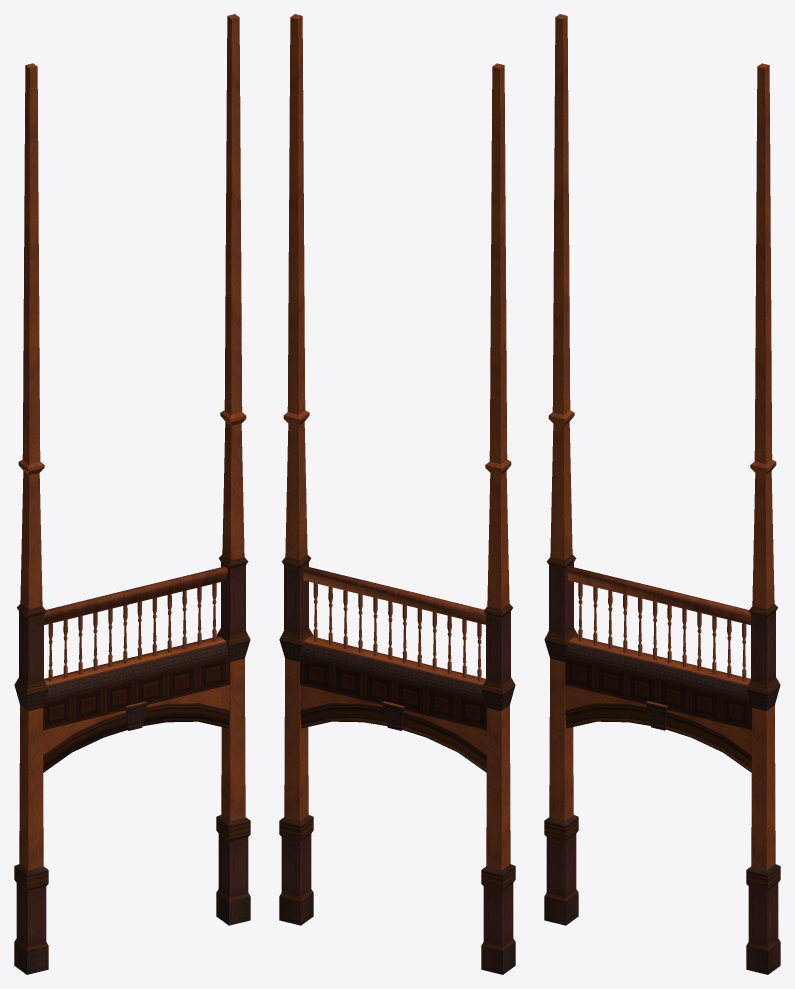
Rendered from Balconey_2_Poles.fbx.
3 views of the same model, side by side, from view 1: azimuth 30°, elevation 25°; view 2: azimuth 150°, elevation 25°; view 3: azimuth 330°, elevation 25° (orthographic).
Visible parts, largest first — view 1: Balcony_2_Poles_LOD0; view 2: Balcony_2_Poles_LOD0; view 3: Balcony_2_Poles_LOD0.
Part boxes in pixels (bbox=[...]): Balcony_2_Poles_LOD0: bbox=[14, 14, 250, 974]; Balcony_2_Poles_LOD0: bbox=[279, 14, 515, 974]; Balcony_2_Poles_LOD0: bbox=[544, 14, 780, 974].
Size of what is drawn, in the model's own units: 382 by 1473 by 37.26.
